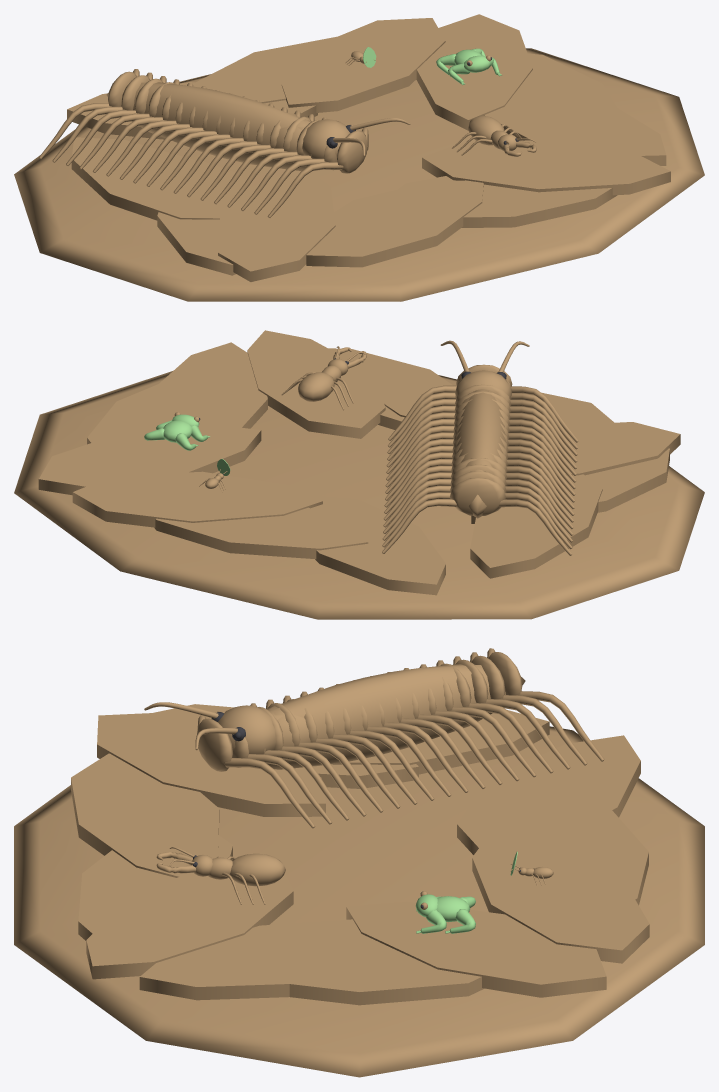
File: reptiles-amphibians-and-minibeasts-garden-undergrowth--39f9ef8d__22469.glb
The picture shows the model from 3 angles, top to bottom: view 1: azimuth 30°, elevation 25°; view 2: azimuth 150°, elevation 25°; view 3: azimuth 270°, elevation 25°; orthographic projection. The views are drawn at different scales.
Parts seen in each view (by area): view 1: 000-leaf-litter-patch/0, 000-leaf-litter-patch/1, 000-leaf-litter-patch/2, 001-giant-centipede/0, 001-giant-centipede/1, 002-stag-beetle/0, 003-glass-frog/0; view 2: 000-leaf-litter-patch/0, 000-leaf-litter-patch/1, 000-leaf-litter-patch/2, 001-giant-centipede/0, 001-giant-centipede/1, 002-stag-beetle/0, 003-glass-frog/0; view 3: 000-leaf-litter-patch/0, 000-leaf-litter-patch/1, 000-leaf-litter-patch/2, 001-giant-centipede/0, 001-giant-centipede/1, 002-stag-beetle/0, 003-glass-frog/0.
Part boxes in pixels (bbox=[...]): 000-leaf-litter-patch/0: bbox=[14, 48, 704, 301]; 000-leaf-litter-patch/1: bbox=[71, 18, 666, 267]; 000-leaf-litter-patch/2: bbox=[67, 14, 670, 281]; 001-giant-centipede/0: bbox=[39, 69, 410, 217]; 001-giant-centipede/1: bbox=[108, 71, 367, 173]; 002-stag-beetle/0: bbox=[452, 115, 536, 156]; 003-glass-frog/0: bbox=[436, 48, 502, 84]; 000-leaf-litter-patch/0: bbox=[14, 371, 704, 619]; 000-leaf-litter-patch/1: bbox=[72, 342, 613, 578]; 000-leaf-litter-patch/2: bbox=[38, 330, 680, 595]; 001-giant-centipede/0: bbox=[382, 340, 578, 555]; 001-giant-centipede/1: bbox=[450, 364, 512, 515]; 002-stag-beetle/0: bbox=[281, 346, 366, 410]; 003-glass-frog/0: bbox=[144, 414, 210, 450]; 000-leaf-litter-patch/0: bbox=[14, 726, 704, 1077]; 000-leaf-litter-patch/1: bbox=[71, 709, 649, 1005]; 000-leaf-litter-patch/2: bbox=[78, 704, 640, 997]; 001-giant-centipede/0: bbox=[144, 648, 604, 828]; 001-giant-centipede/1: bbox=[197, 652, 522, 771]; 002-stag-beetle/0: bbox=[156, 847, 285, 904]; 003-glass-frog/0: bbox=[415, 894, 475, 933].
Bounding box in the file's own units: 0.5257 × 0.103 × 0.4.
